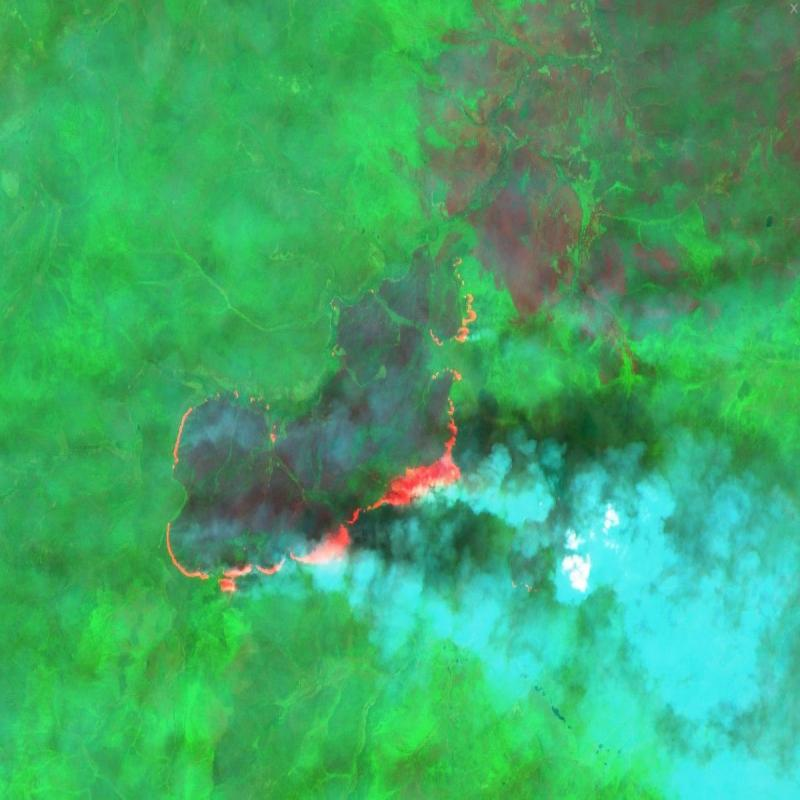fire: (162, 286, 484, 595)
